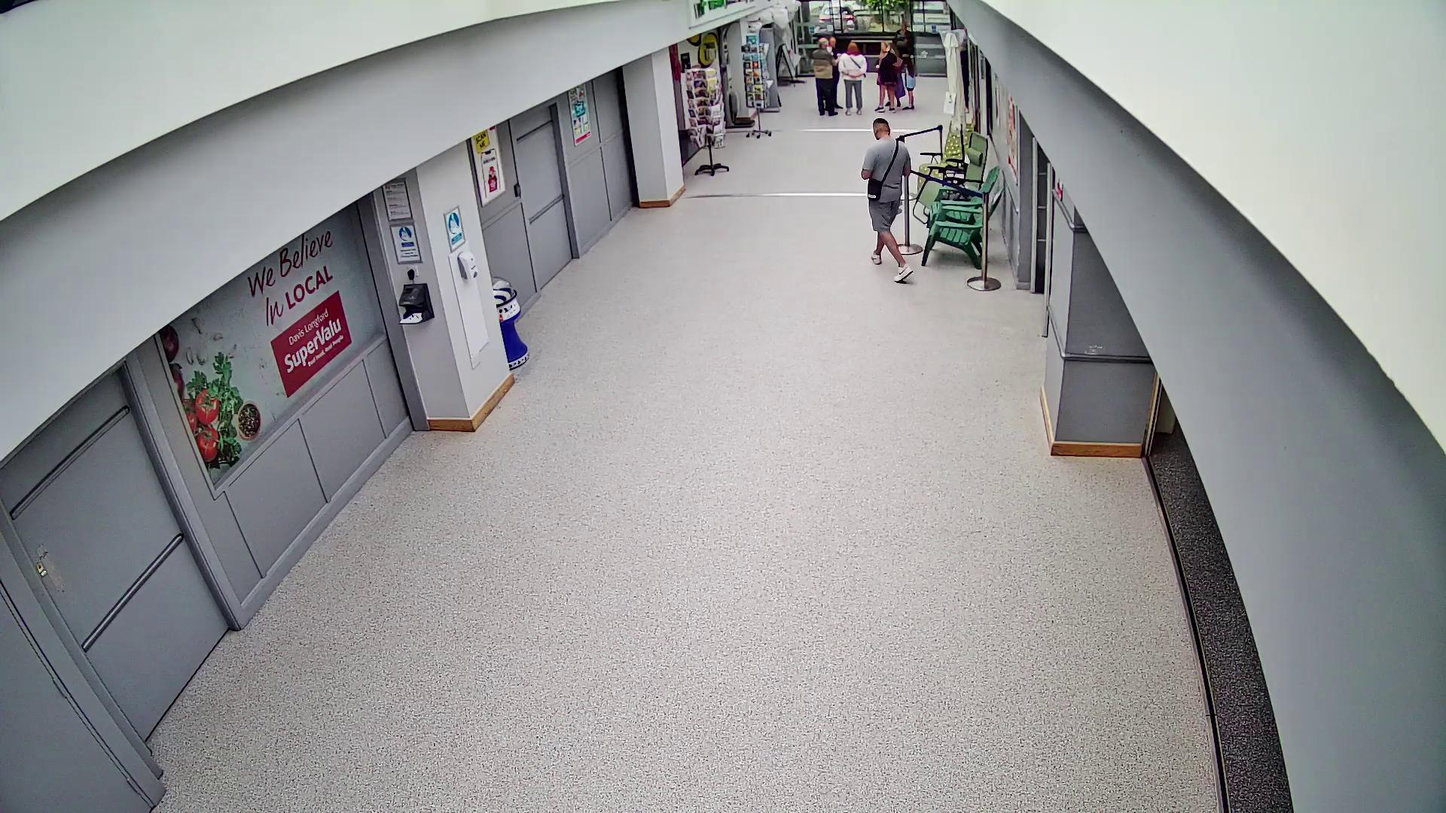backpack-or-handbag: (866, 177, 882, 201)
person: (861, 118, 913, 283)
person-with-backpack-handbag: (861, 117, 913, 283)
